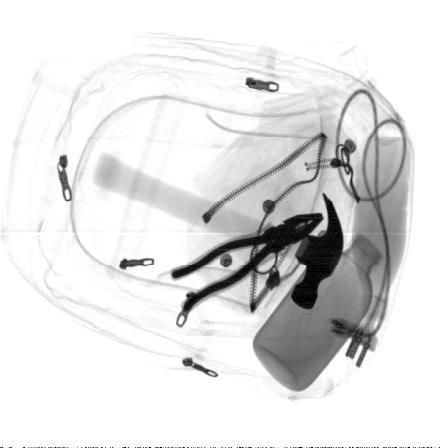Hammer: (91, 150, 344, 309)
Pliers: (170, 212, 325, 315)
